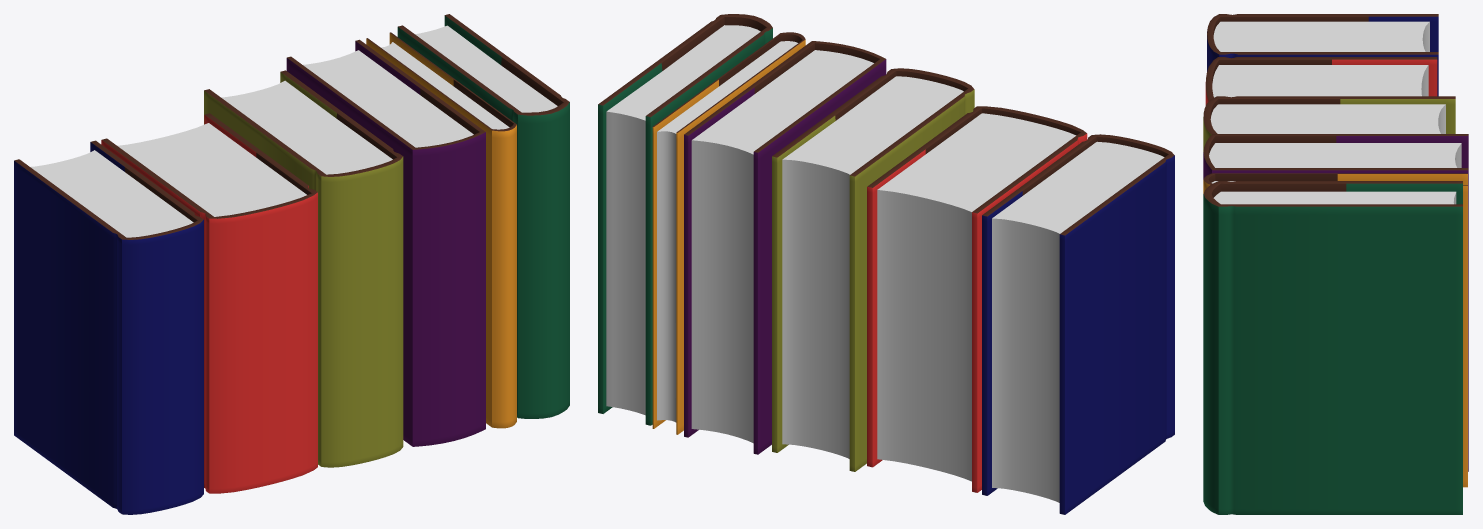
File: Hard Cover Books.fbx
3 views of the same model, side by side, from view 1: azimuth 30°, elevation 25°; view 2: azimuth 150°, elevation 25°; view 3: azimuth 270°, elevation 25° (orthographic).
Parts seen in each view (by area): view 1: Book - Hard Cover 01, Book - Hard Cover 02, Book - Hard Cover 03, Book - Hard Cover 04, Book - Hard Cover 06, Book - Hard Cover 05; view 2: Book - Hard Cover 01, Book - Hard Cover 02, Book - Hard Cover 03, Book - Hard Cover 04, Book - Hard Cover 06, Book - Hard Cover 05; view 3: Book - Hard Cover 06, Book - Hard Cover 04, Book - Hard Cover 01, Book - Hard Cover 03, Book - Hard Cover 02, Book - Hard Cover 05.
Part boxes in pixels (box(x1,y1,x2,y2)): Book - Hard Cover 01: box(14, 140, 203, 514); Book - Hard Cover 02: box(101, 113, 317, 493); Book - Hard Cover 03: box(204, 70, 403, 467); Book - Hard Cover 04: box(286, 39, 485, 446); Book - Hard Cover 06: box(397, 14, 569, 418); Book - Hard Cover 05: box(366, 32, 516, 428); Book - Hard Cover 01: box(982, 134, 1174, 514); Book - Hard Cover 02: box(867, 106, 1087, 492); Book - Hard Cover 03: box(772, 68, 974, 471); Book - Hard Cover 04: box(684, 41, 886, 454); Book - Hard Cover 06: box(598, 14, 772, 425); Book - Hard Cover 05: box(652, 32, 805, 434); Book - Hard Cover 06: box(1203, 181, 1462, 514); Book - Hard Cover 04: box(1203, 134, 1468, 471); Book - Hard Cover 01: box(1207, 14, 1438, 96); Book - Hard Cover 03: box(1203, 96, 1455, 151); Book - Hard Cover 02: box(1205, 57, 1437, 105); Book - Hard Cover 05: box(1203, 173, 1467, 487).
Bounding box in the file's own units: 42.81 × 27.76 × 21.61.
